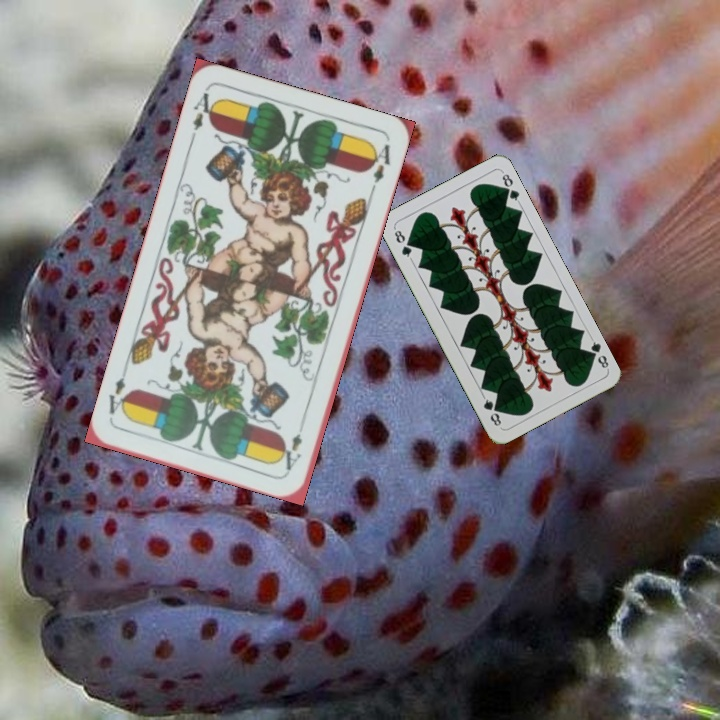EA: (187, 88, 220, 144), (281, 429, 305, 473)
G8: (583, 334, 612, 372), (390, 224, 415, 262)
